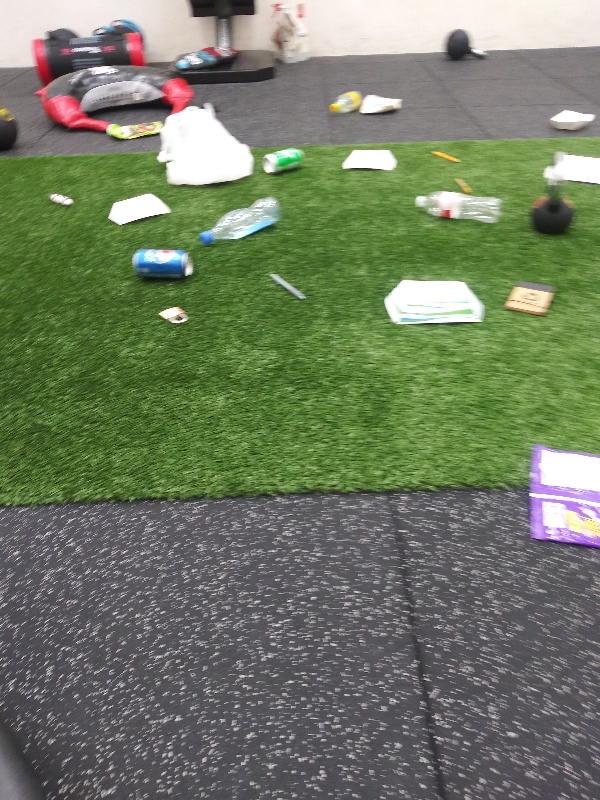bag: (524, 440, 600, 550), (103, 120, 167, 141), (359, 92, 405, 116)
bottle: (195, 193, 281, 247), (407, 187, 505, 226), (328, 89, 368, 116)
can: (129, 246, 196, 282), (258, 145, 310, 176)
plate: (382, 278, 487, 327), (103, 192, 174, 230), (335, 147, 400, 172), (543, 108, 596, 135), (561, 154, 600, 188)
